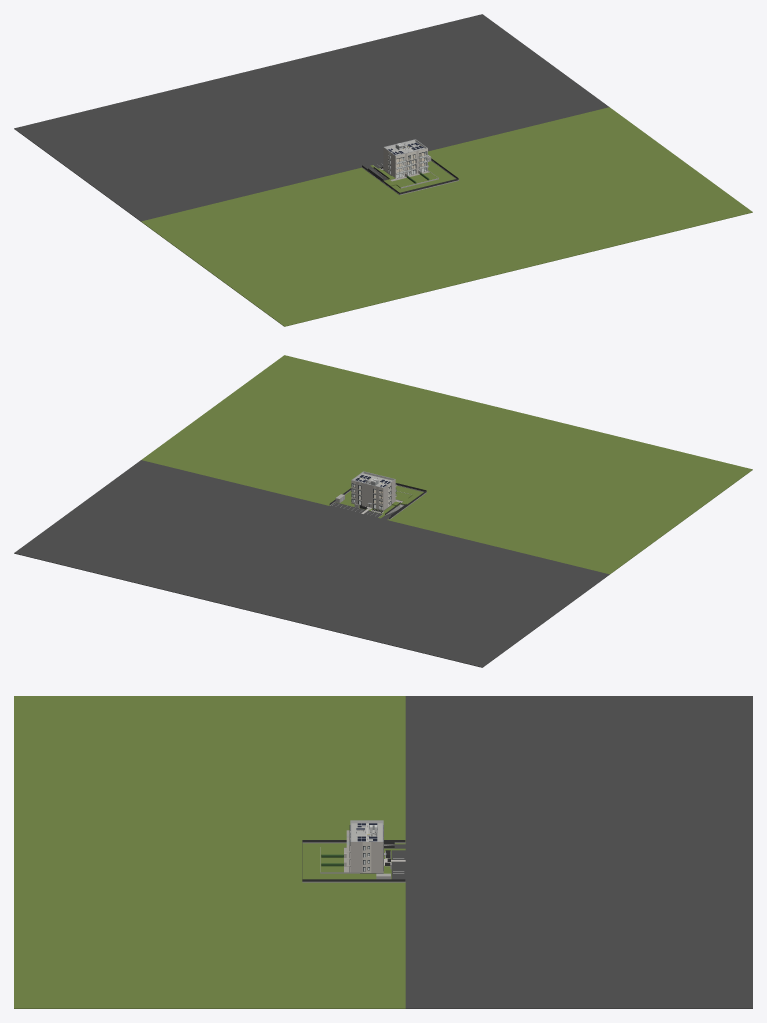
File: edificio.glb
The picture shows the model from 3 angles, top to bottom: view 1: azimuth 30°, elevation 25°; view 2: azimuth 150°, elevation 25°; view 3: azimuth 270°, elevation 25°; orthographic projection. The views are drawn at different scales.
Parts seen in each view (by area): view 1: 00_Contesto/terreno_esterno_N, 00_Contesto/terreno_esterno_S, 00_Contesto/terreno_esterno_O, 00_Contesto/terreno_esterno_E; view 2: 00_Contesto/terreno_esterno_N, 00_Contesto/terreno_esterno_S, 00_Contesto/terreno_esterno_O, 00_Contesto/terreno_esterno_E; view 3: 00_Contesto/terreno_esterno_N, 00_Contesto/terreno_esterno_S, 00_Contesto/terreno_esterno_O, 00_Contesto/terreno_esterno_E, 00_Lotto/giardino_pensile, 00_Lotto/prato_E.
Boxes of the visible parts, box(x1,y1,x2,y2) form: 00_Contesto/terreno_esterno_N: box(14, 14, 609, 221); 00_Contesto/terreno_esterno_S: box(179, 135, 752, 326); 00_Contesto/terreno_esterno_O: box(141, 167, 398, 249); 00_Contesto/terreno_esterno_E: box(428, 107, 646, 180); 00_Contesto/terreno_esterno_N: box(14, 460, 609, 667); 00_Contesto/terreno_esterno_S: box(179, 355, 752, 546); 00_Contesto/terreno_esterno_O: box(389, 493, 647, 574); 00_Contesto/terreno_esterno_E: box(141, 432, 356, 505); 00_Contesto/terreno_esterno_N: box(405, 696, 752, 1008); 00_Contesto/terreno_esterno_S: box(14, 696, 302, 1008); 00_Contesto/terreno_esterno_O: box(302, 696, 405, 841); 00_Contesto/terreno_esterno_E: box(302, 882, 405, 1008); 00_Lotto/giardino_pensile: box(320, 847, 343, 872); 00_Lotto/prato_E: box(302, 873, 391, 879).
Bounding box in the file's own units: 300 × 21.45 × 300.
